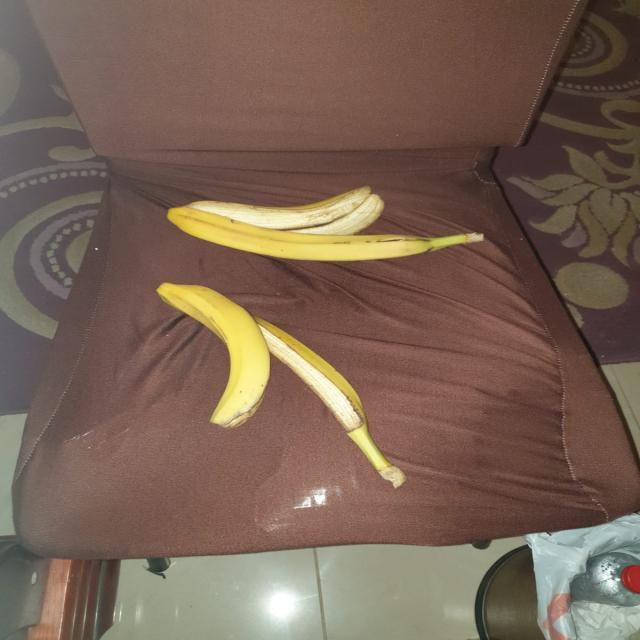banana-peel: (154, 280, 407, 489), (165, 184, 484, 263)
